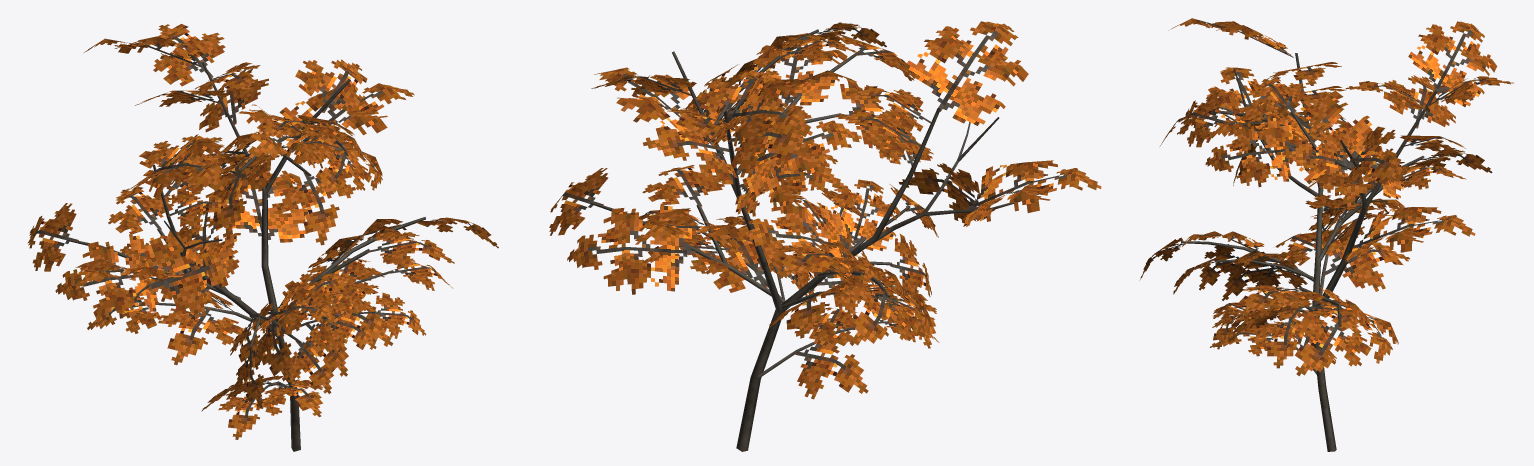
Rendered from Bush2-2.fbx.
The picture shows the model from 3 angles, left to right: view 1: azimuth 30°, elevation 25°; view 2: azimuth 150°, elevation 25°; view 3: azimuth 270°, elevation 25°; orthographic projection. The views are drawn at different scales.
Parts seen in each view (by area): view 1: Bush2-2_LOD0; view 2: Bush2-2_LOD0; view 3: Bush2-2_LOD0.
Part boxes in pixels (box(x1,y1,x2,y2)): Bush2-2_LOD0: box(27, 24, 498, 451); Bush2-2_LOD0: box(549, 21, 1101, 451); Bush2-2_LOD0: box(1139, 18, 1513, 451).
Size of what is drawn, in the model's own units: 1.27 by 0.9489 by 1.04.
